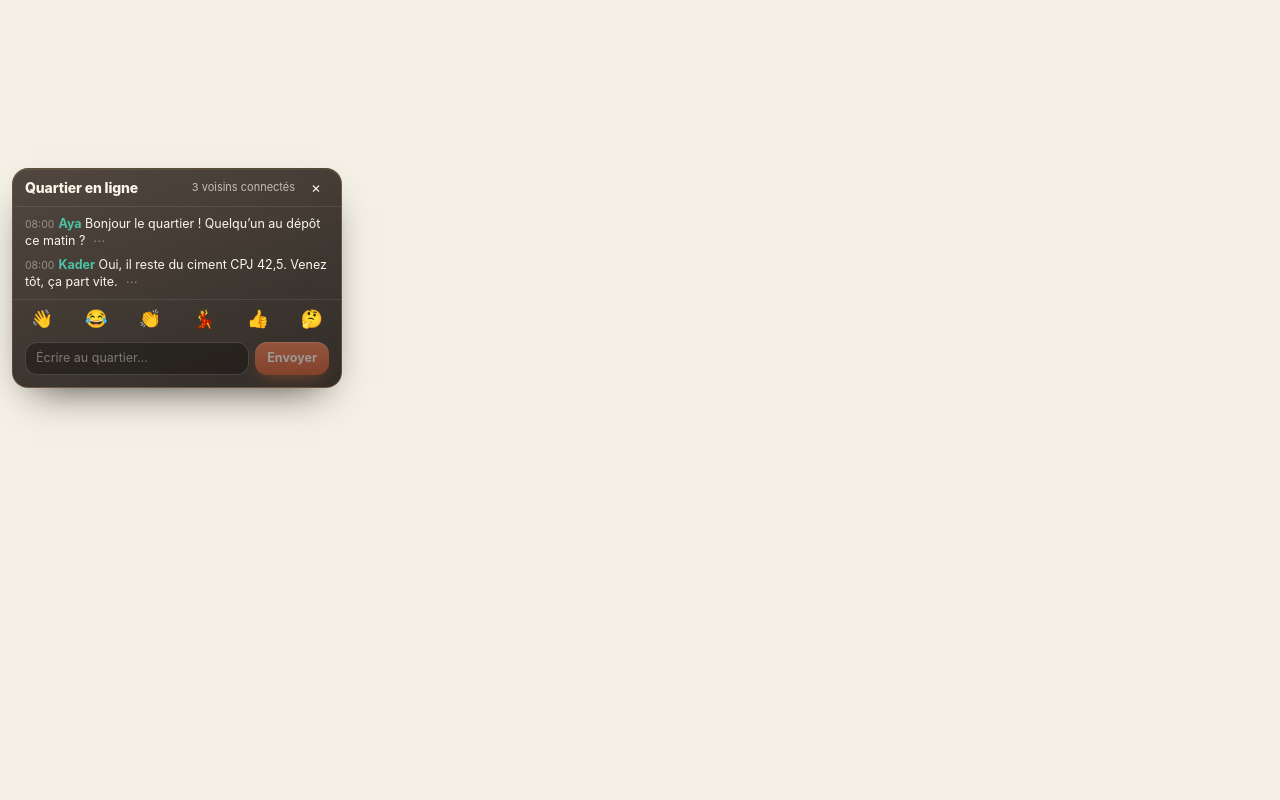
Test case: signaler un message et masquer un joueur › en démonstration, retire le message signalé, masque un joueur sur cet appareil et le réaffiche
Step 1. Click the button named "Options du message de Kader" → {"x": 132, "y": 282}, box top-left (122, 276), bottom-right (142, 288)
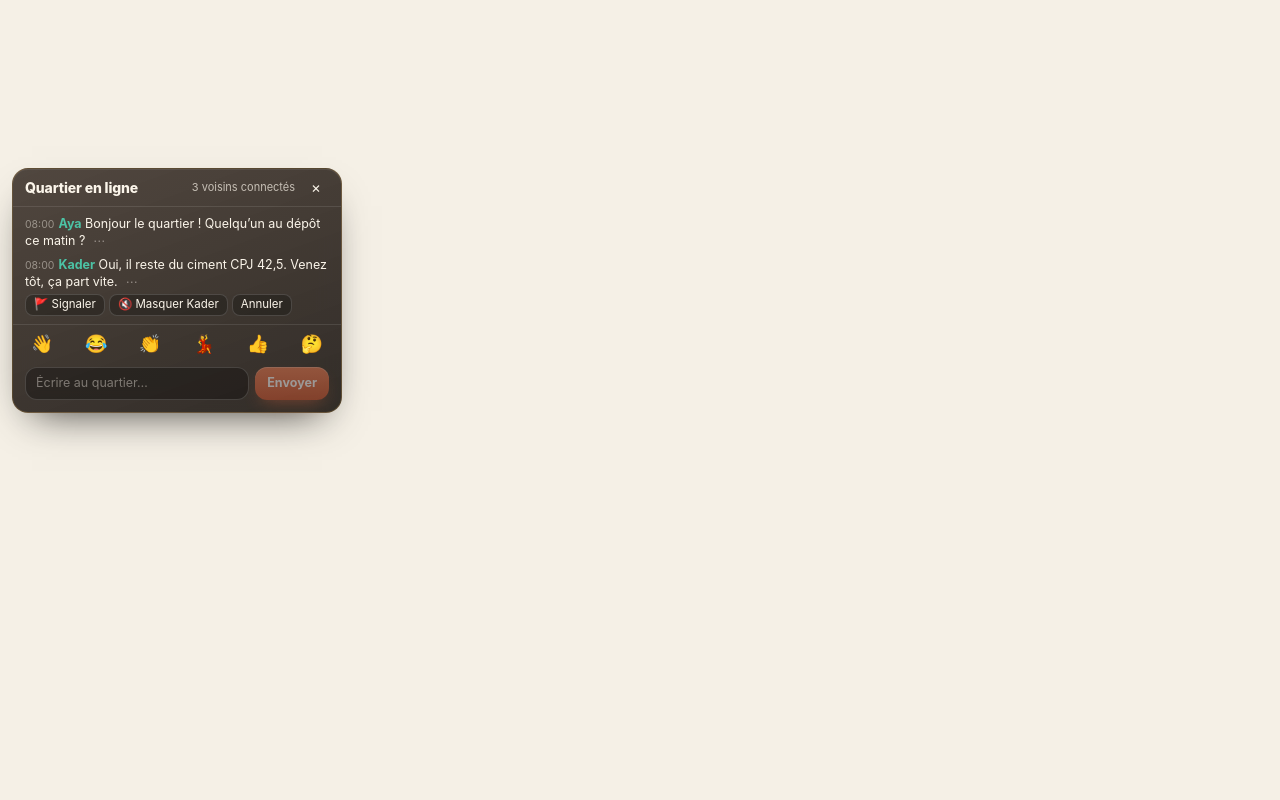
Step 2. Click the button "🚩 Signaler" → {"x": 65, "y": 305}, box top-left (25, 294), bottom-right (105, 316)
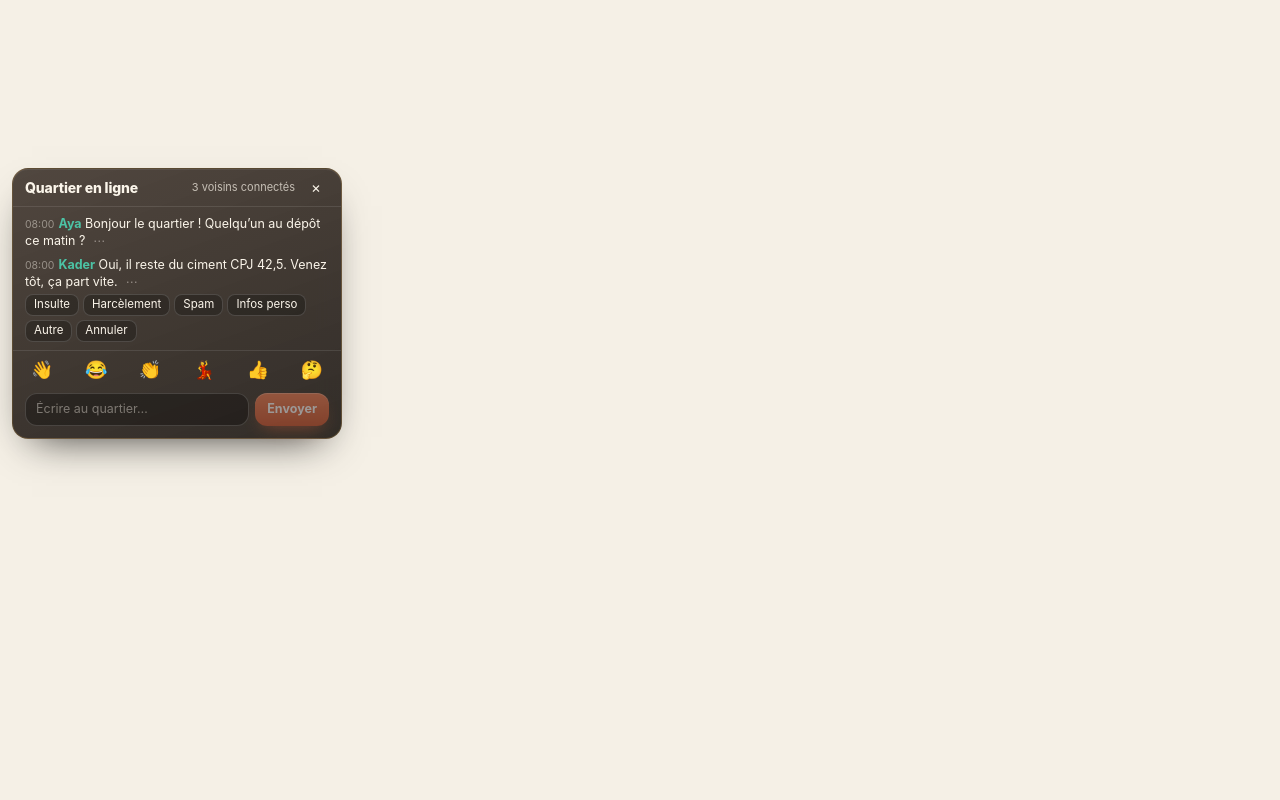
Step 3. Click the button "Insulte" → {"x": 52, "y": 305}, box top-left (25, 294), bottom-right (79, 316)
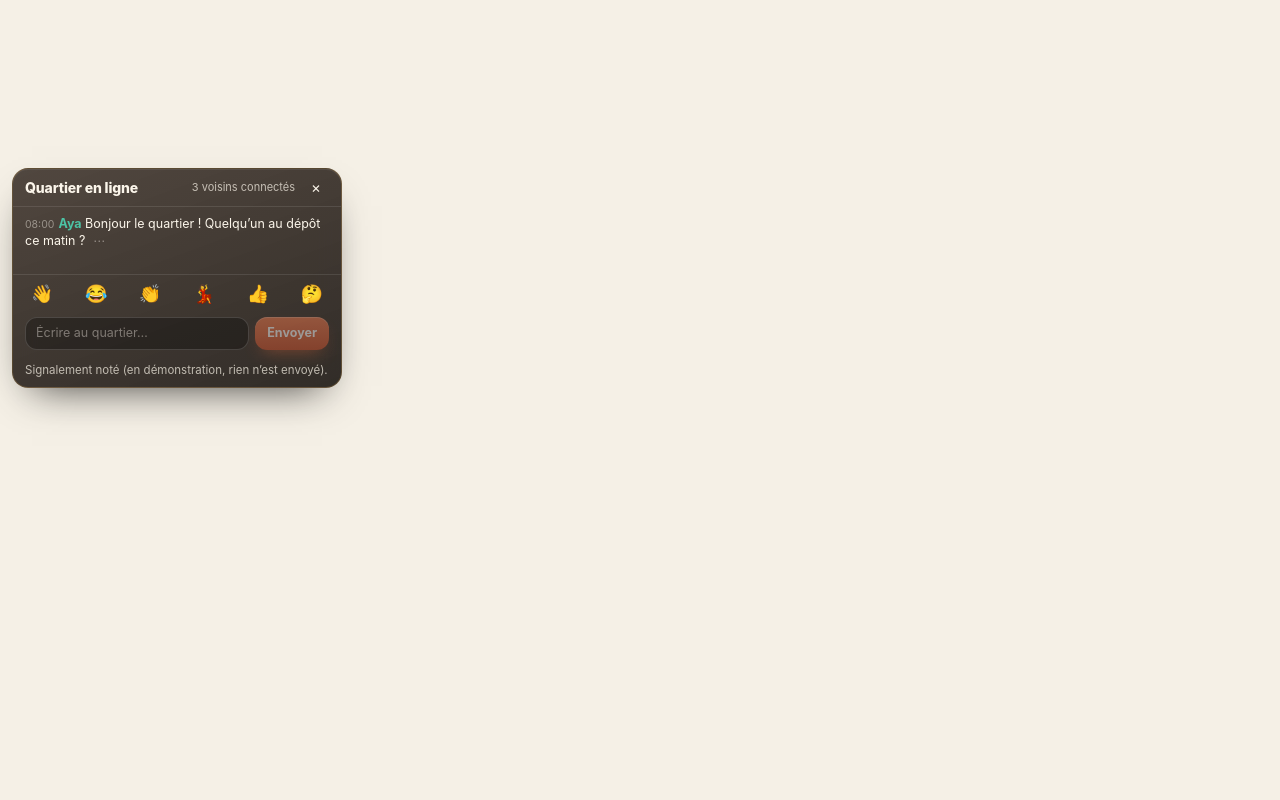
Check: the text "Oui, il reste du ciment CPJ 42,5. Venez tôt, ça part vite." is gone
Check: the message reads "Signalement noté (en démonstration, rien n’est envoyé).", box top-left (25, 363), bottom-right (328, 377)
Step 4. Click the button named "Options du message de Aya" → {"x": 99, "y": 241}, box top-left (89, 235), bottom-right (109, 247)
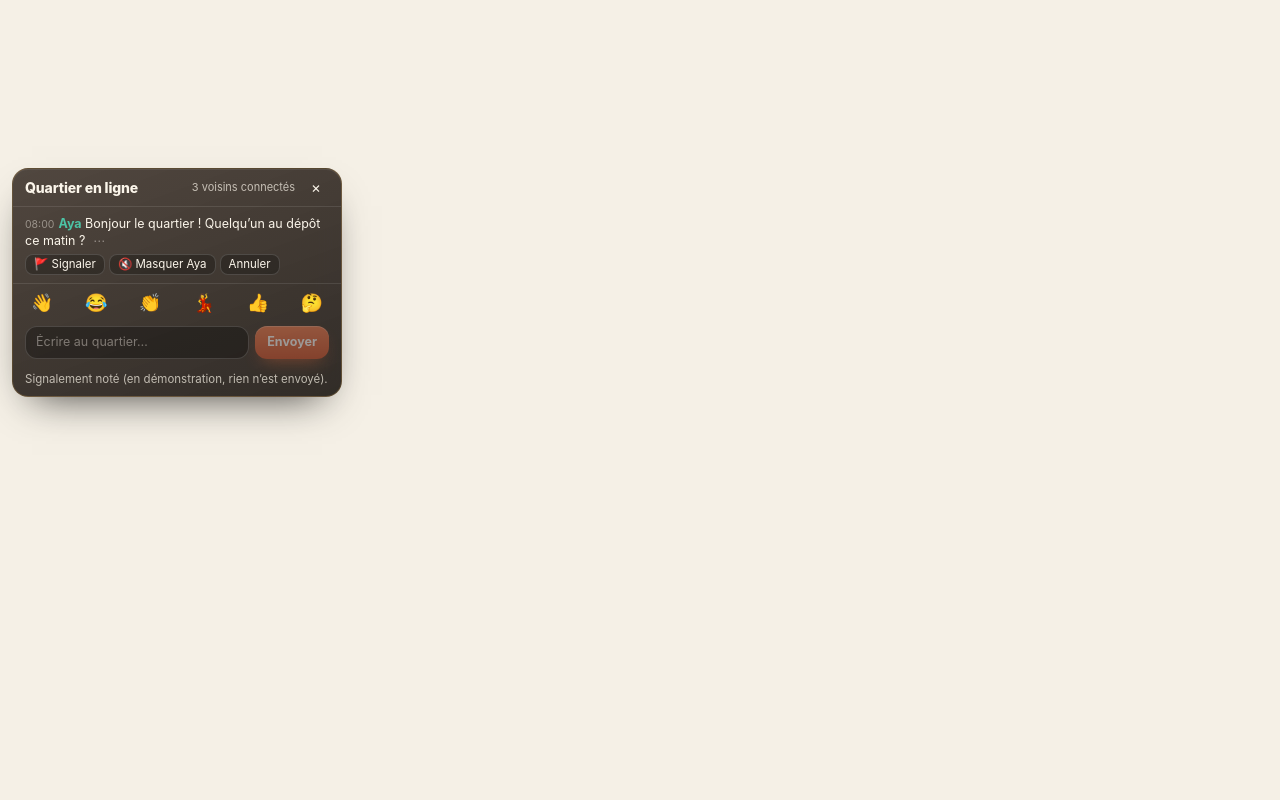
Step 5. Click the button "🔇 Masquer Aya" → {"x": 162, "y": 264}, box top-left (109, 254), bottom-right (216, 275)
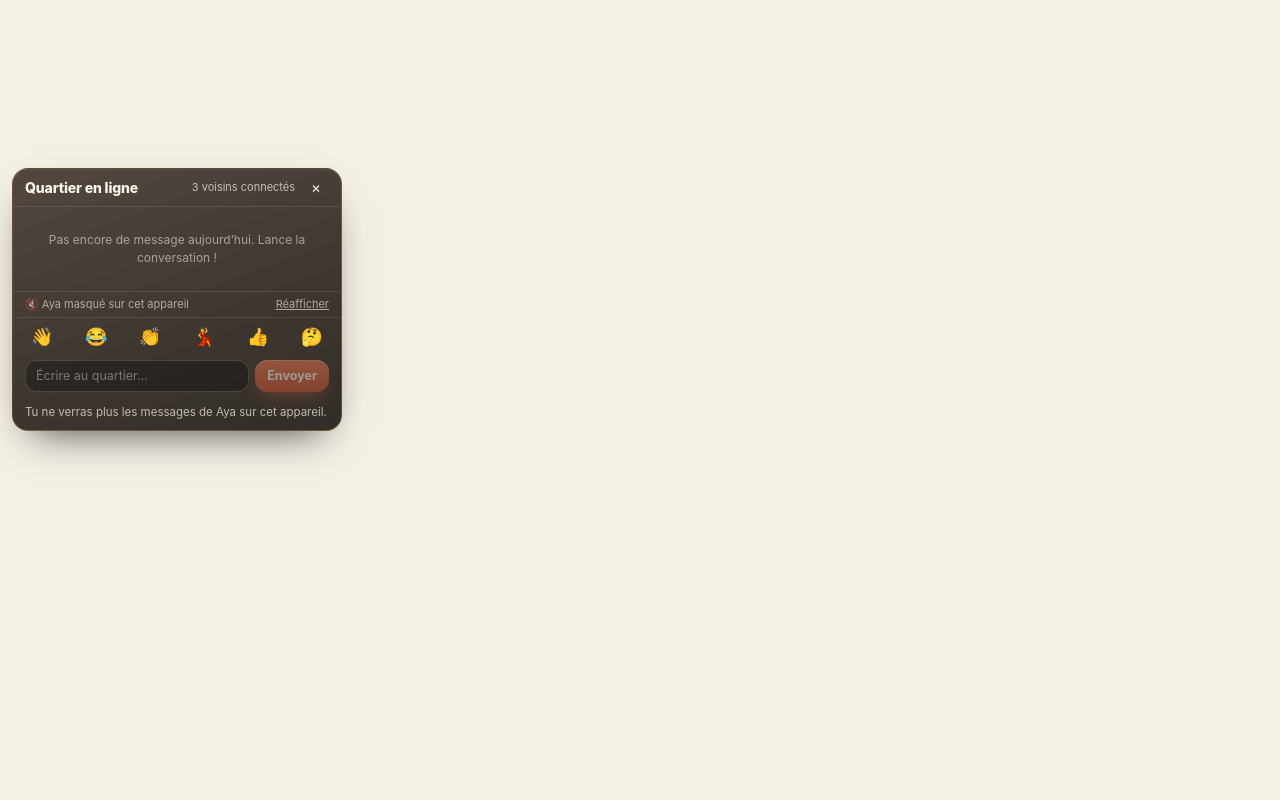
Check: the text "Bonjour le quartier ! Quelqu’un au dépôt ce matin ?" is gone
Check: the text "🔇 Aya masqué sur cet appareil" is shown, box top-left (25, 296), bottom-right (189, 312)
Step 6. Click the button "Réafficher" → {"x": 302, "y": 304}, box top-left (276, 296), bottom-right (329, 312)
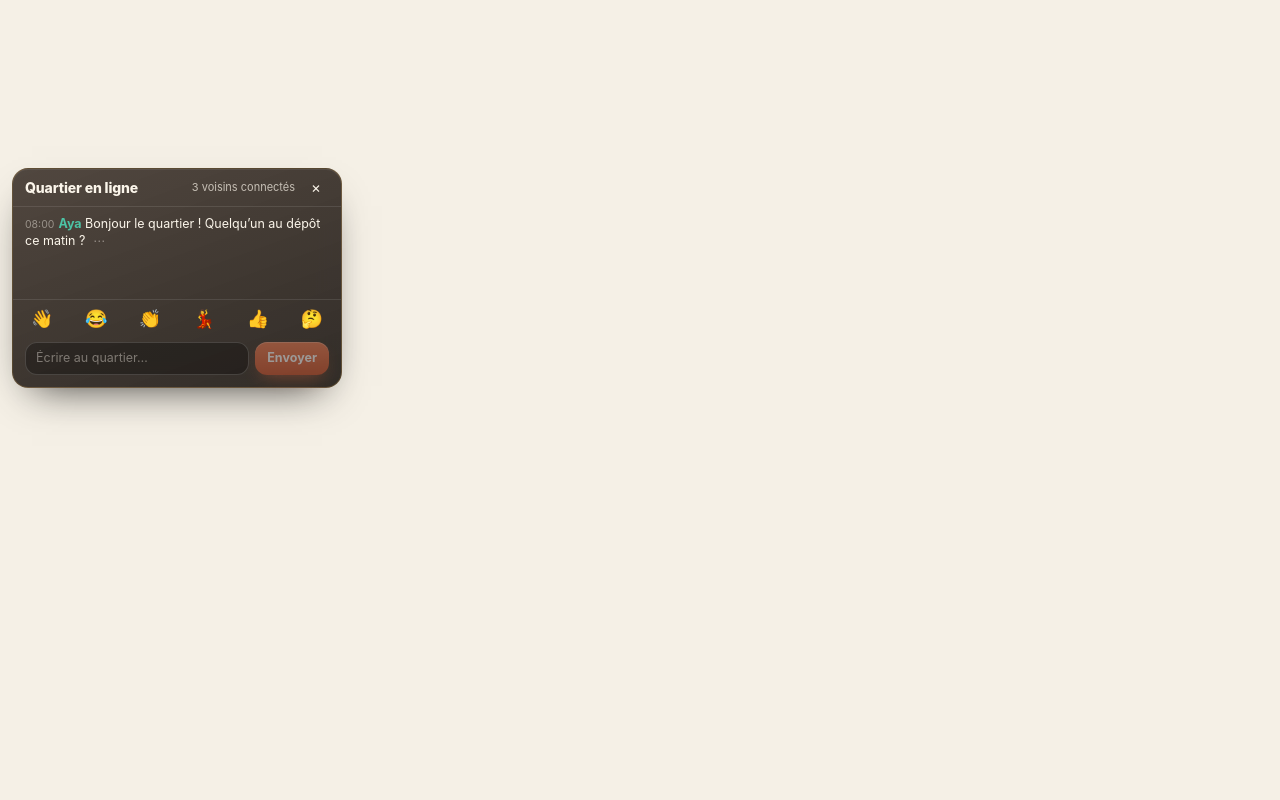
Check: the text "Bonjour le quartier ! Quelqu’un au dépôt ce matin ?" is shown, box top-left (25, 216), bottom-right (320, 248)
